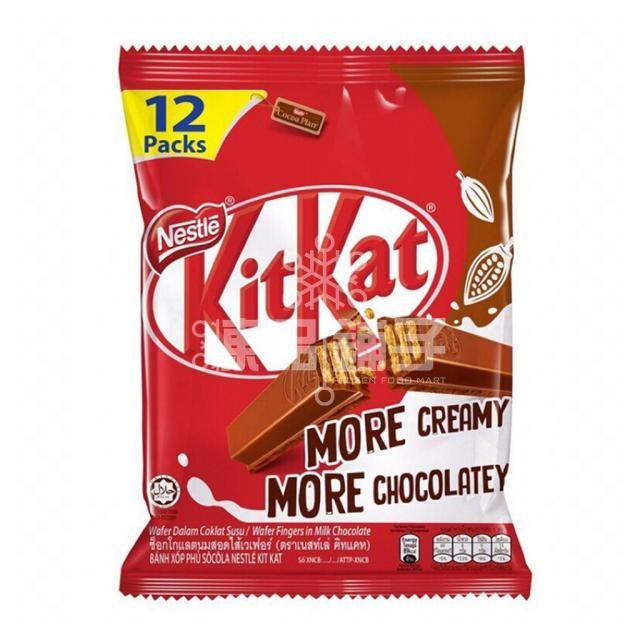kitkat_chocolate: (125, 45, 510, 588)
